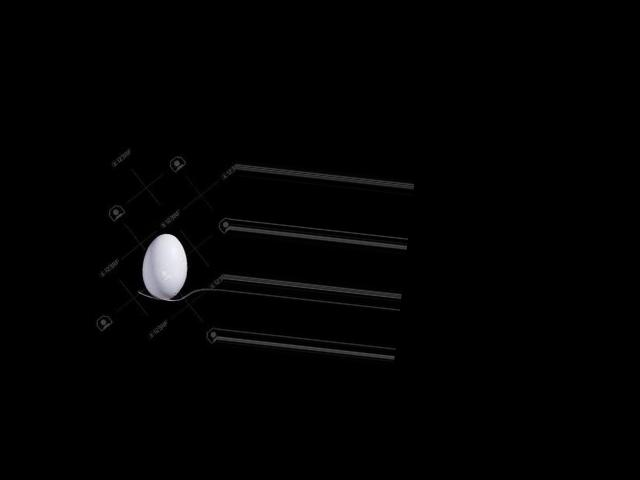egg: (139, 232, 191, 302)
